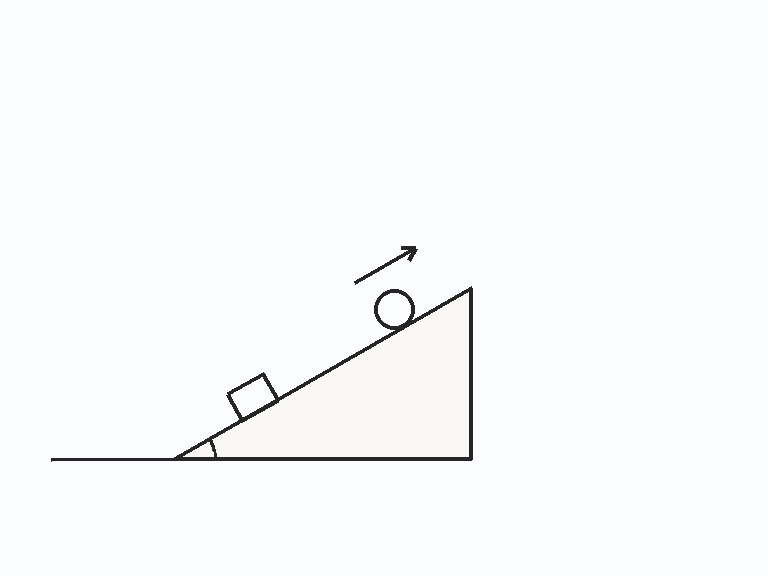ball: (372, 287, 416, 331)
block: (224, 371, 280, 422)
ramp: (173, 286, 473, 461)
